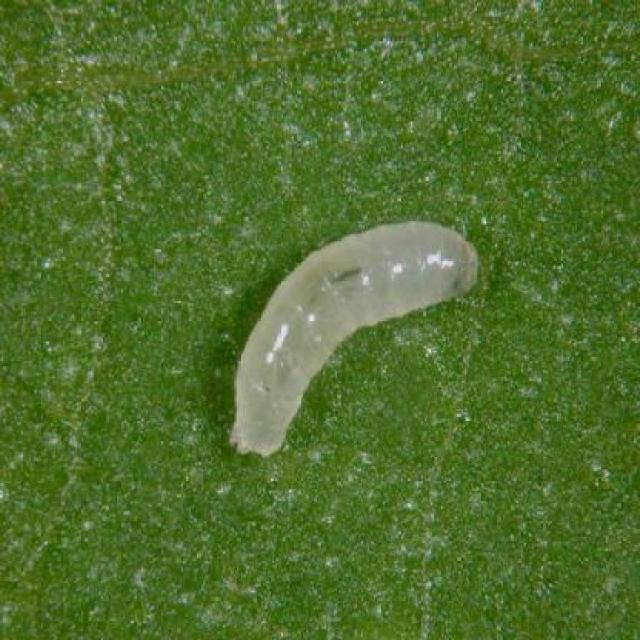whorl-maggot: (222, 215, 484, 460)
